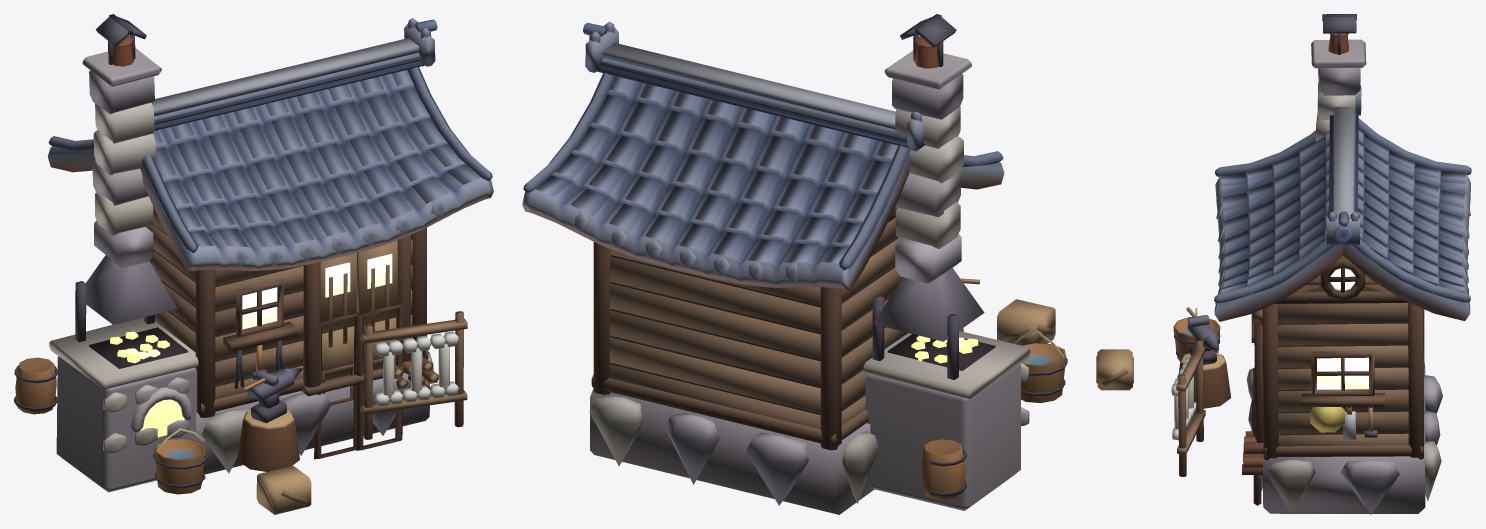
The model's file is boneSmith.glb.
3 views of the same model, side by side, from view 1: azimuth 30°, elevation 25°; view 2: azimuth 150°, elevation 25°; view 3: azimuth 270°, elevation 25° (orthographic). The views are drawn at different scales.
Parts seen in each view (by area): view 1: boneSmith, window_glow; view 2: boneSmith, window_glow; view 3: boneSmith, window_glow.
Boxes of the visible parts, <box> form: boneSmith: <box>14,14,493,514</box>; window_glow: <box>110,254,392,437</box>; boneSmith: <box>522,14,1067,514</box>; window_glow: <box>911,335,978,363</box>; boneSmith: <box>1096,14,1471,514</box>; window_glow: <box>1317,268,1368,389</box>.
Size of the model in its own units: 3.34 by 3.66 by 3.2.
